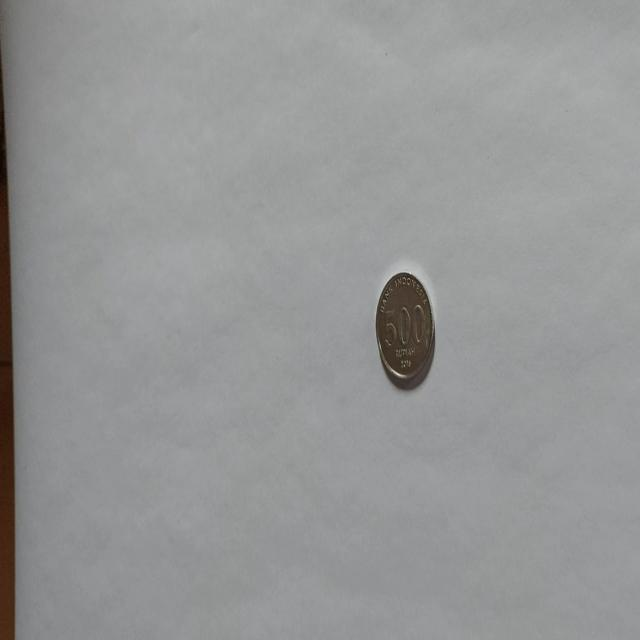lima ratus rupiah: (374, 270, 436, 390)
